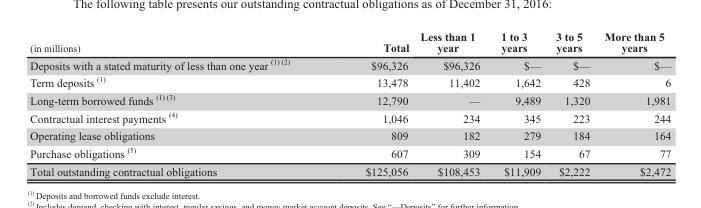table: (29, 29, 670, 177)
table column: (29, 29, 326, 177), (326, 29, 413, 177), (413, 29, 489, 177), (596, 29, 670, 177), (489, 29, 547, 177), (547, 29, 596, 177)
table column header: (29, 29, 670, 55)
table row: (29, 29, 670, 55), (29, 143, 670, 162), (29, 72, 670, 90), (29, 90, 670, 108), (29, 108, 670, 126), (29, 55, 670, 72), (29, 126, 670, 143), (29, 162, 670, 177)
